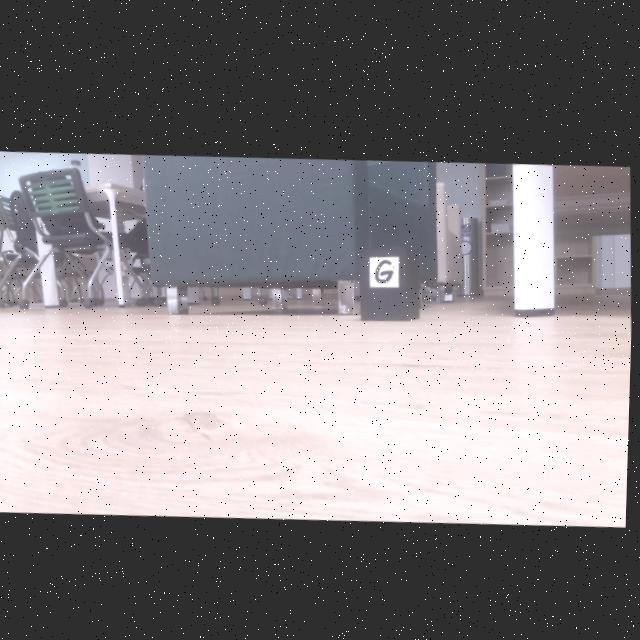G: (376, 254, 395, 278)
